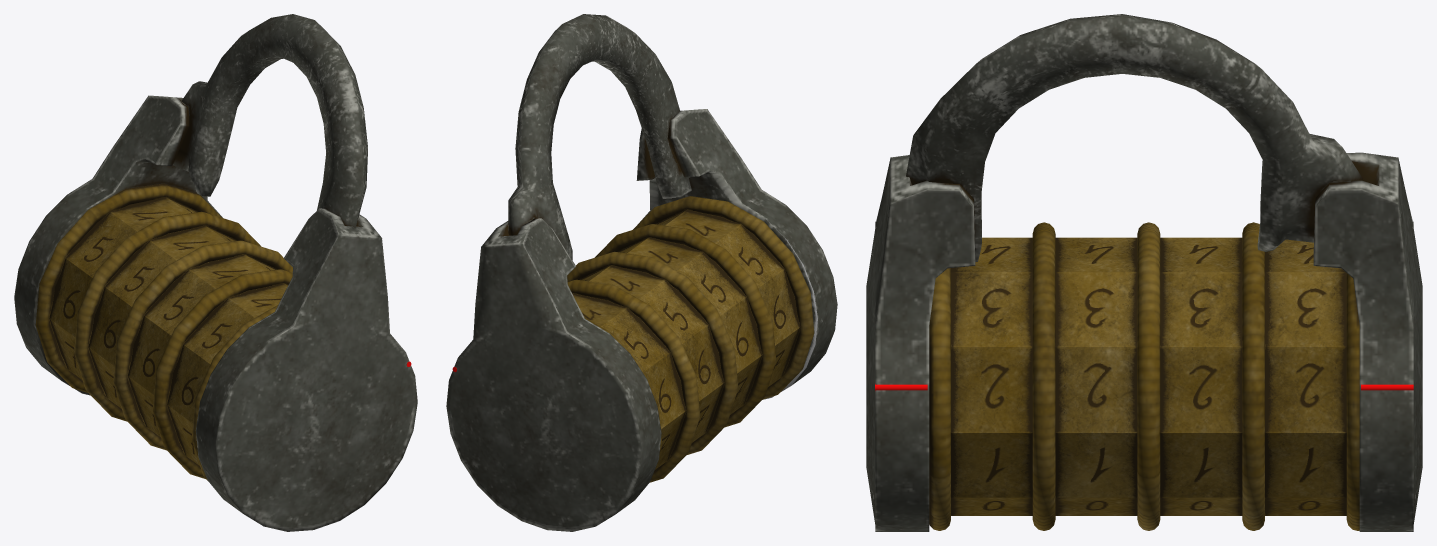
Rendered from redlocked.fbx.
3 renders of one model, left to right at view 1: azimuth 30°, elevation 25°; view 2: azimuth 150°, elevation 25°; view 3: azimuth 270°, elevation 25°, orthographic. The views are drawn at different scales.
Parts seen in each view (by area): view 1: PadlockCap, PadlockSeparationCylinder, PadlockRing, Ruller2, Ruller3, Ruller1, Ruller4; view 2: PadlockCap, PadlockSeparationCylinder, PadlockRing, Ruller2, Ruller3, Ruller4, Ruller1; view 3: PadlockCap, PadlockRing, PadlockSeparationCylinder, Ruller2, Ruller3, Ruller4, Ruller1.
Boxes of the visible parts, x1,y1,x2,y2 form: PadlockCap: (14,95,417,531); PadlockSeparationCylinder: (35,183,292,480); PadlockRing: (173,14,367,228); Ruller2: (88,225,237,408); Ruller3: (127,254,276,437); Ruller1: (49,197,197,379); Ruller4: (167,283,288,465); PadlockCap: (446,109,837,531); PadlockSeparationCylinder: (567,196,814,482); PadlockRing: (508,14,691,259); Ruller2: (580,265,724,442); Ruller3: (618,237,762,414); Ruller4: (656,209,800,386); Ruller1: (572,293,686,469); PadlockCap: (866,152,1422,531); PadlockRing: (906,14,1362,262); PadlockSeparationCylinder: (929,222,1359,530); Ruller2: (1160,237,1242,515); Ruller3: (1055,237,1137,515); Ruller4: (951,237,1032,515); Ruller1: (1265,239,1346,515).
Size of the model in its own units: 22.23 by 44.14 by 39.77.
Materials: 2 (1 with a texture image).
